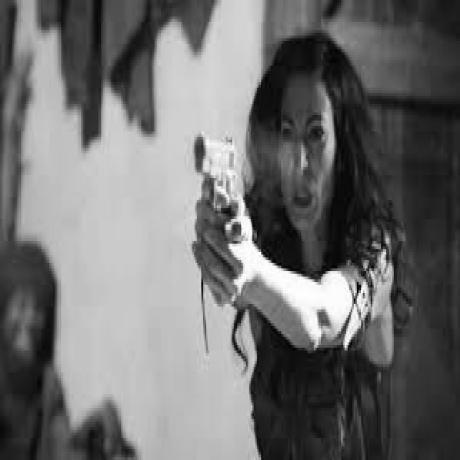Guns: (190, 124, 246, 214)
